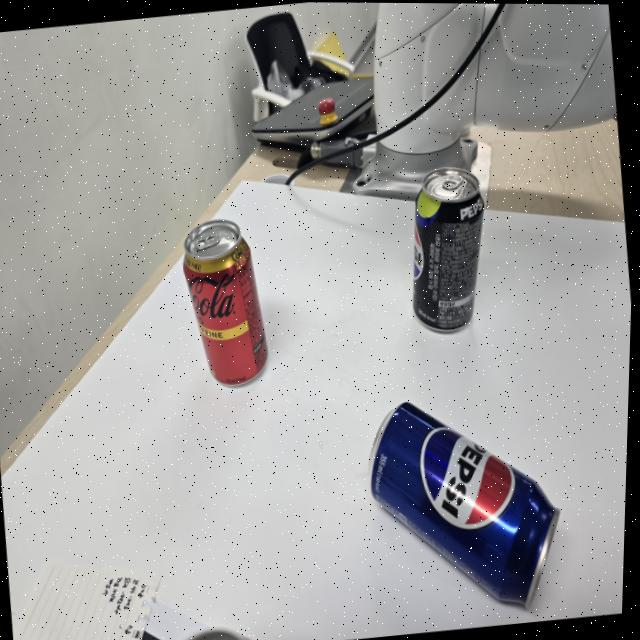can_coke_decaf: (183, 221, 269, 384)
can_pepsi: (368, 398, 560, 612)
can_pepsi_zero: (412, 166, 482, 331)
